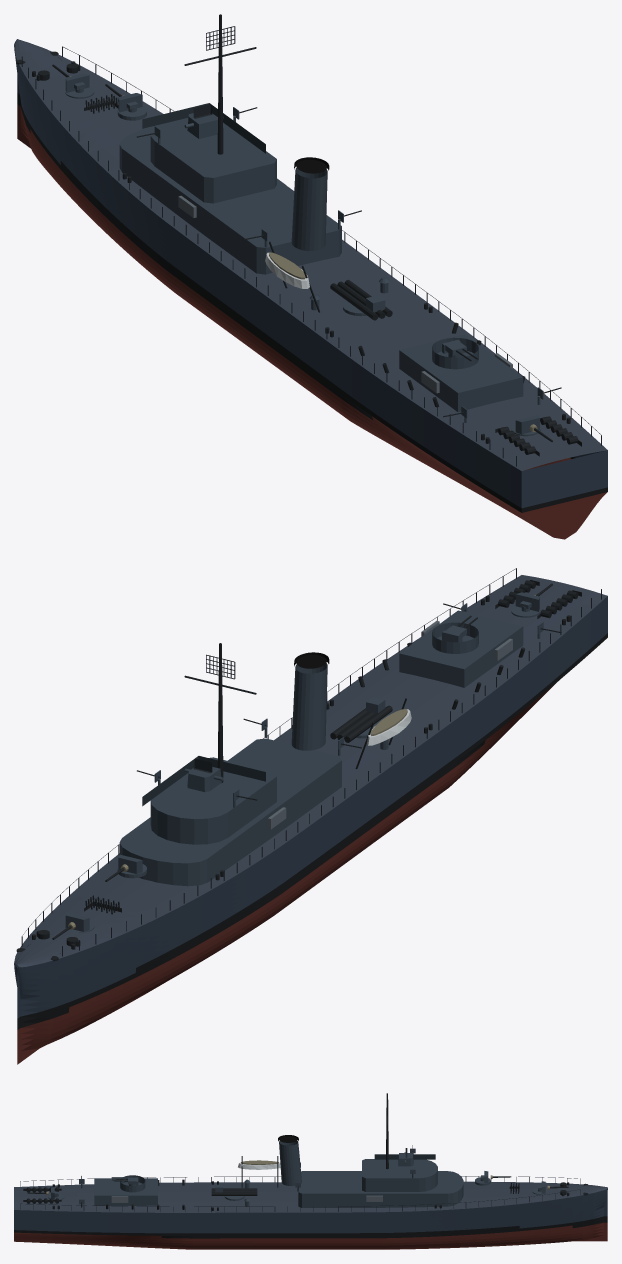
The model's file is buckley.glb.
The picture shows the model from 3 angles, top to bottom: view 1: azimuth 30°, elevation 25°; view 2: azimuth 150°, elevation 25°; view 3: azimuth 270°, elevation 25°; orthographic projection. The views are drawn at different scales.
Parts seen in each view (by area): view 1: Hull, Torpedo1, Director, Mount2; view 2: Hull, Torpedo1, Director, Mount3; view 3: Hull, Torpedo1, Director.
Part boxes in pixels (box(x1,y1,x2,y2)): Hull: box(14, 14, 607, 539); Torpedo1: box(330, 279, 392, 320); Director: box(184, 104, 223, 138); Mount2: box(105, 84, 146, 120); Hull: box(14, 568, 607, 1064); Torpedo1: box(330, 697, 392, 742); Director: box(184, 758, 223, 792); Mount3: box(511, 583, 552, 617); Hull: box(14, 1093, 607, 1249); Torpedo1: box(211, 1184, 257, 1200); Director: box(398, 1148, 413, 1166).
Size of the model in its own units: 11.9 by 25.6 by 93.29.
